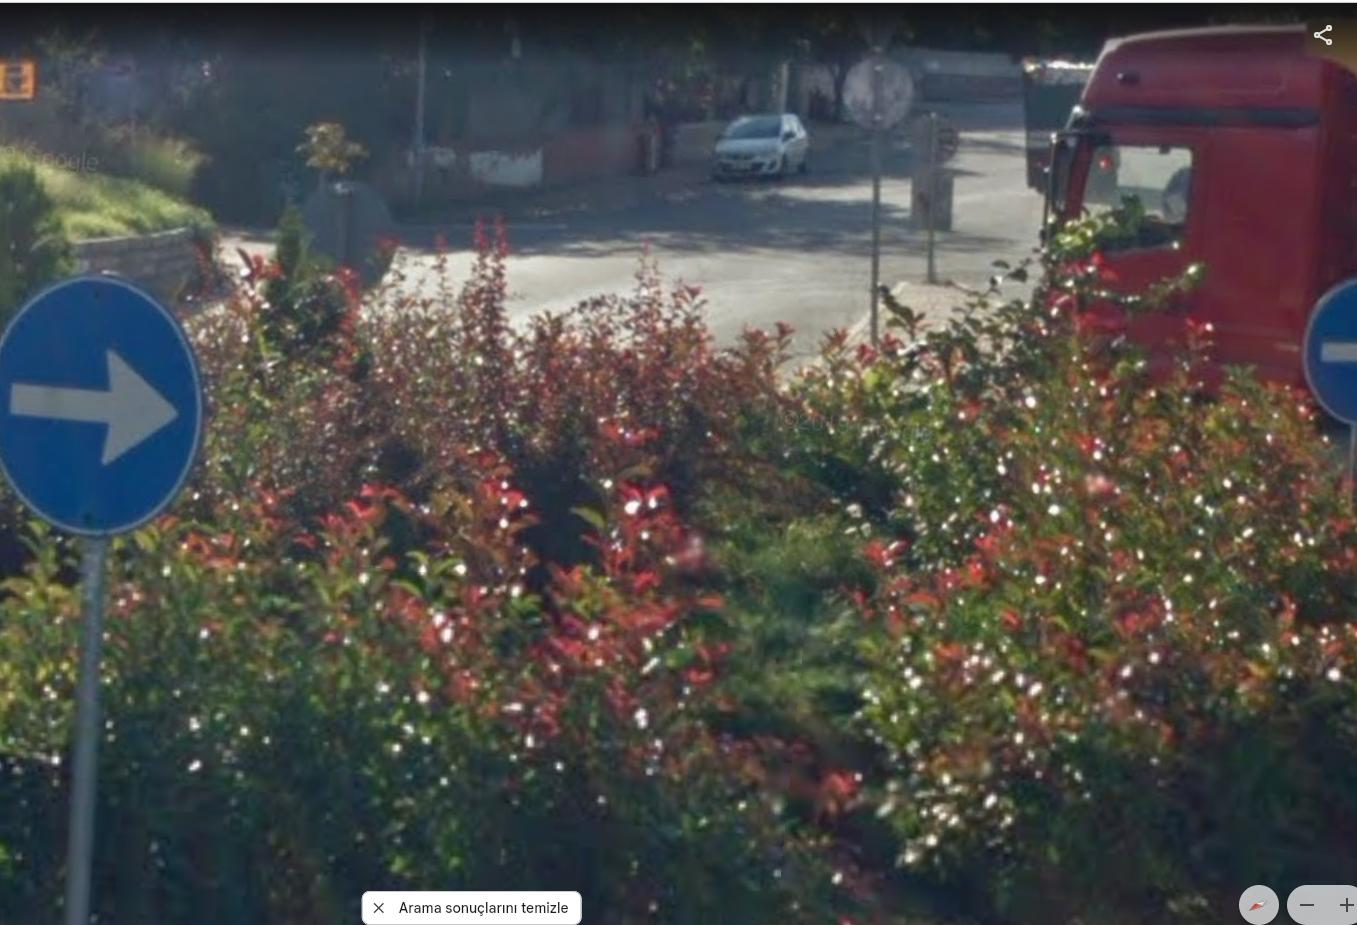turnright: (0, 253, 219, 561)
